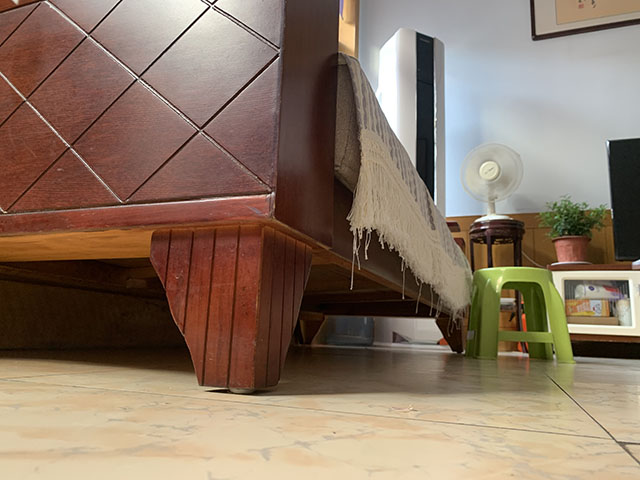sofa: (1, 1, 476, 396)
stool: (465, 266, 577, 366)
